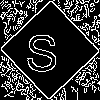S: (25, 25, 59, 72)
